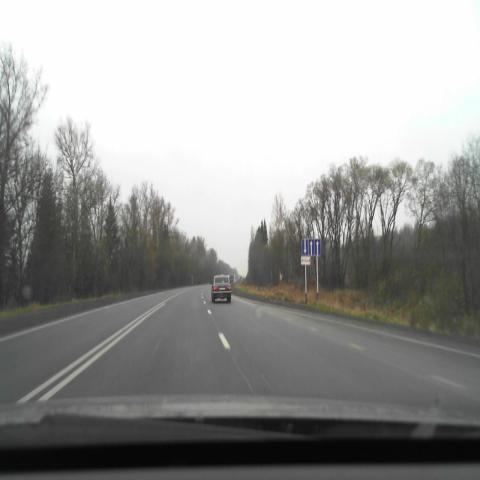5_15_7: (301, 238, 321, 256)
